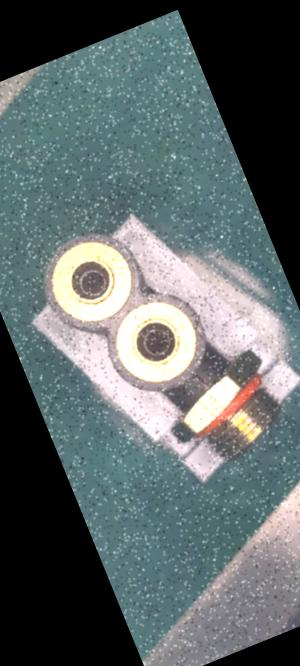craze: (191, 369, 211, 392)
